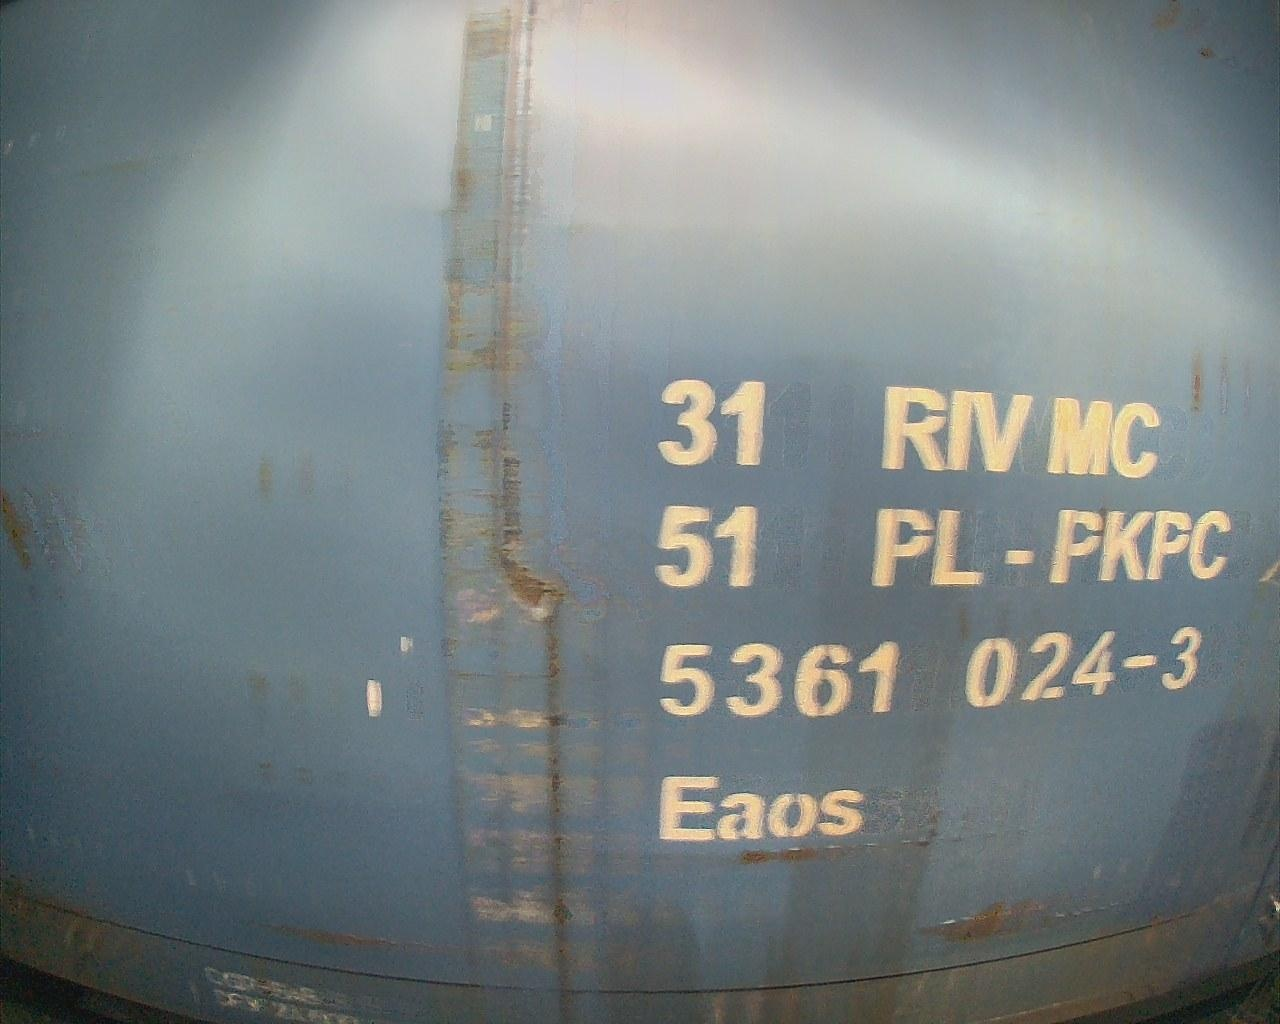UIC: (636, 370, 1236, 852)
